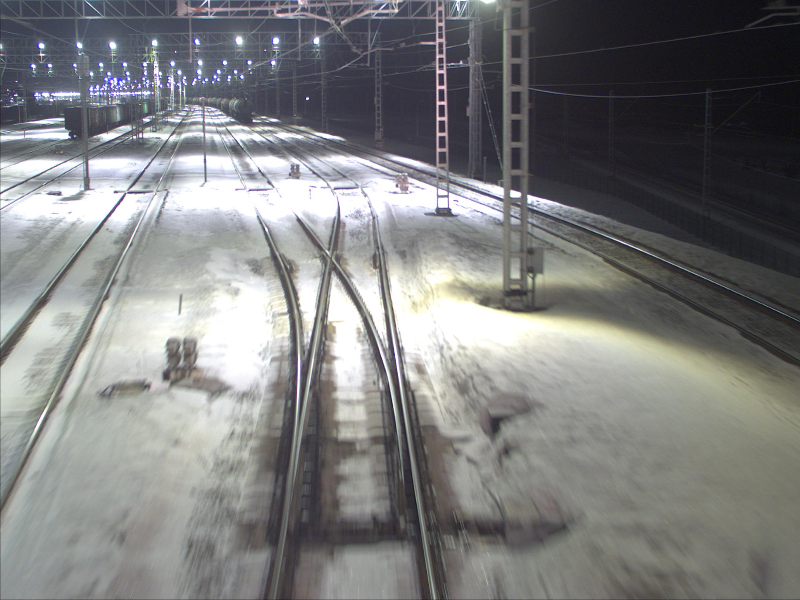right: (277, 410, 435, 513)
